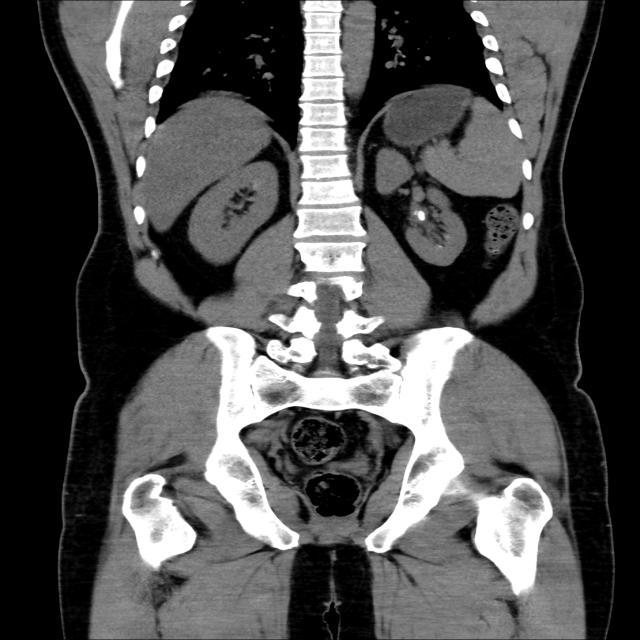kidneystone: (416, 210, 426, 221)
